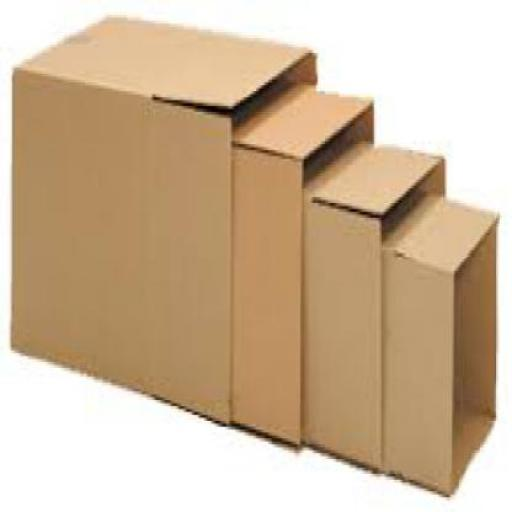cardboard: (9, 14, 316, 424), (228, 80, 373, 448), (302, 138, 443, 471), (380, 186, 496, 500)
